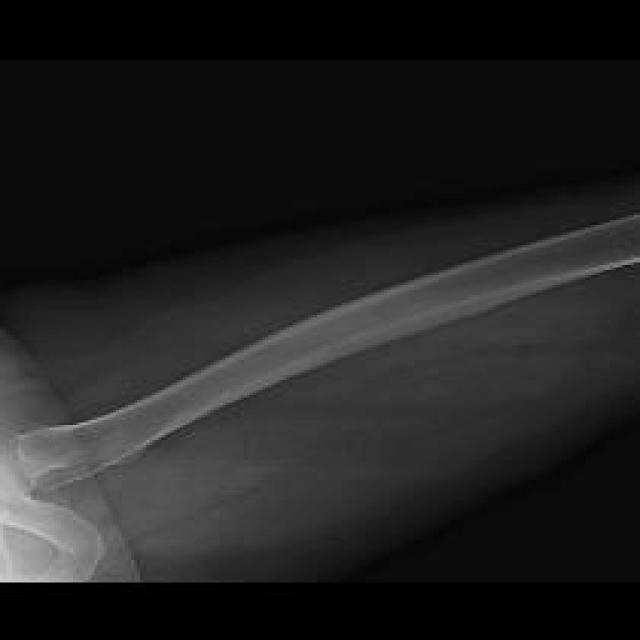normal: (0, 215, 640, 584)
